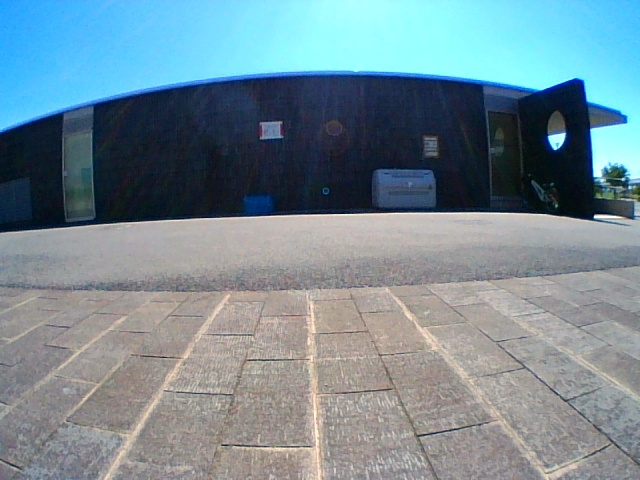blue_box: (244, 196, 271, 213)
